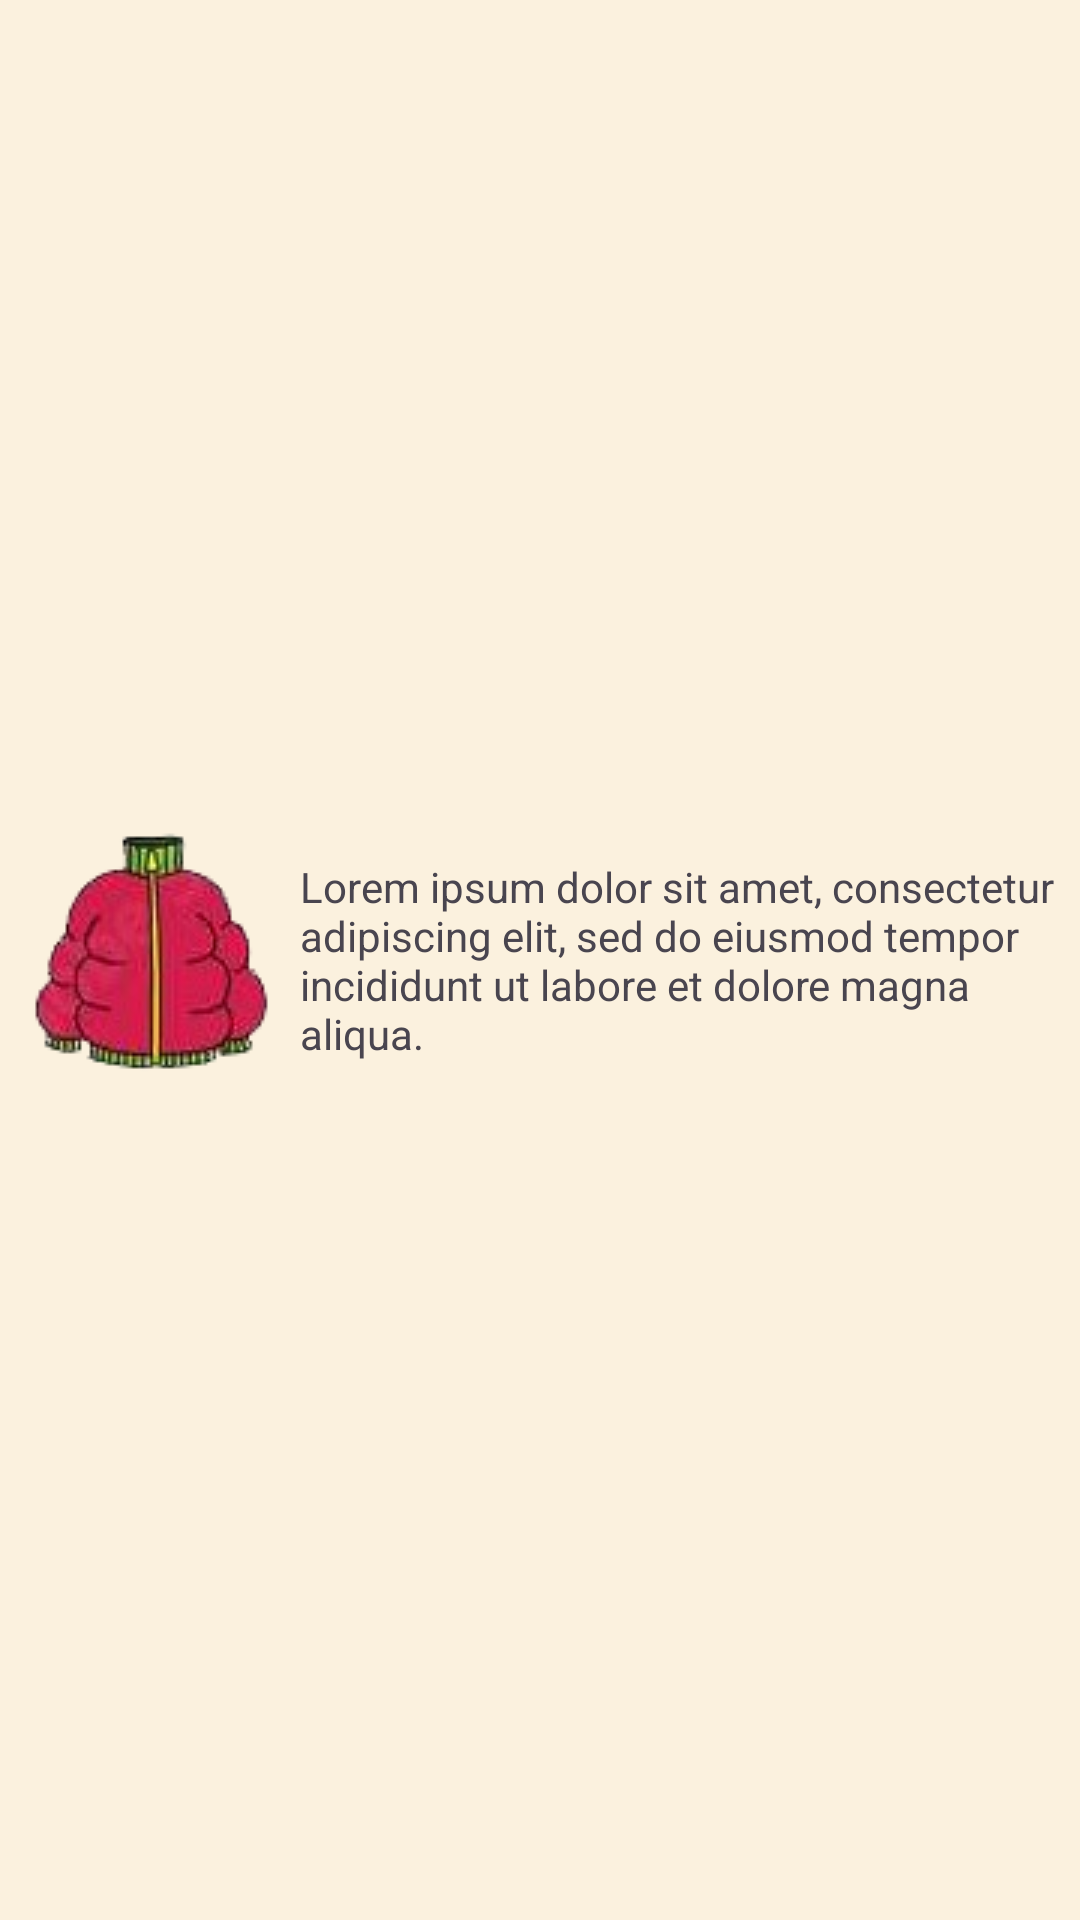

Icons on this 1080x1920 Android screen, each with the point to tap as [x,y]:
coat: [151,951]
